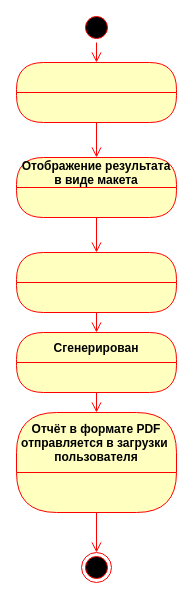
This 193x599 diagram has some shape labels left out. Each missing label, with the centre of its shape:
"Отправка отчёта в генераторор PDF" goes at point (96, 282).
"Отчёт создан" goes at point (96, 92).
